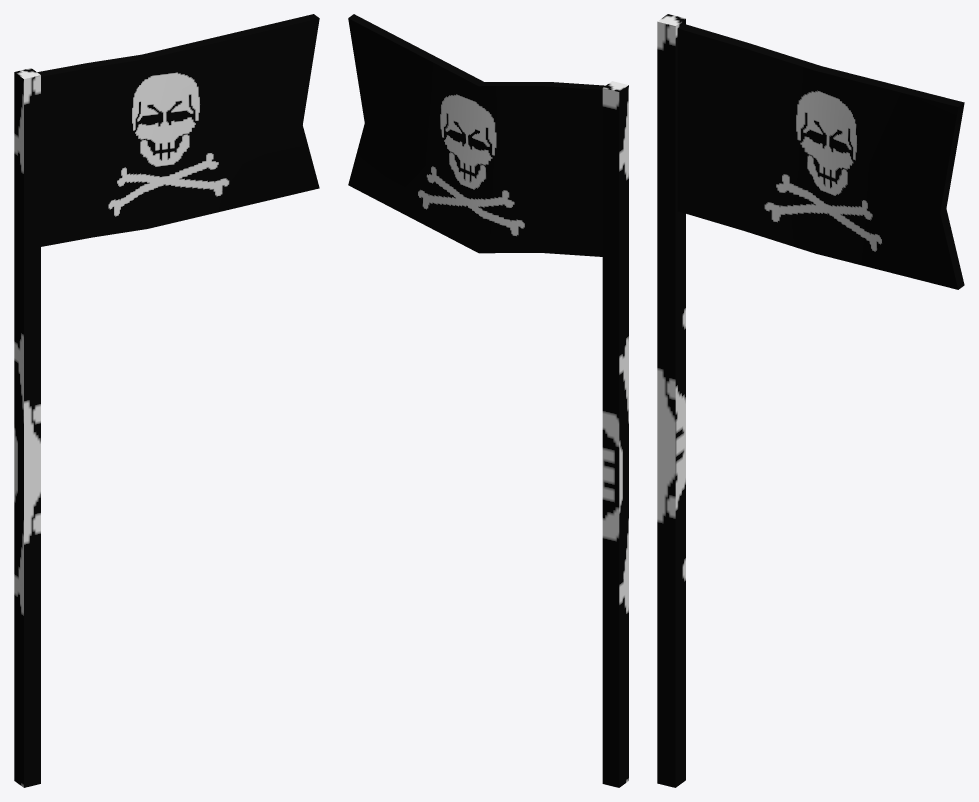
File: Flag_PV.fbx
The picture shows the model from 3 angles, left to right: view 1: azimuth 30°, elevation 25°; view 2: azimuth 150°, elevation 25°; view 3: azimuth 330°, elevation 25°; orthographic projection. The views are drawn at different scales.
Parts seen in each view (by area): view 1: Flag_PV; view 2: Flag_PV; view 3: Flag_PV.
Boxes of the visible parts, left/top/right/bottom form: Flag_PV: left=14, top=14, right=319, bottom=787; Flag_PV: left=348, top=14, right=628, bottom=787; Flag_PV: left=657, top=14, right=964, bottom=787.
Size of the model in its own units: 170 by 400 by 26.
